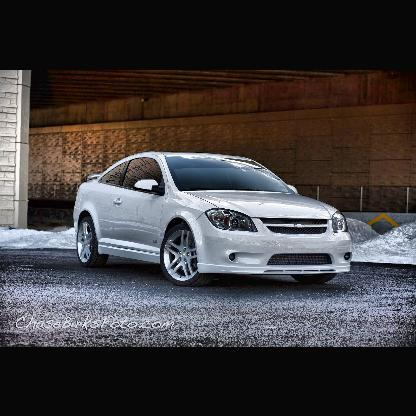Chevrolet Cobalt SS 2010: (73, 151, 353, 291)
